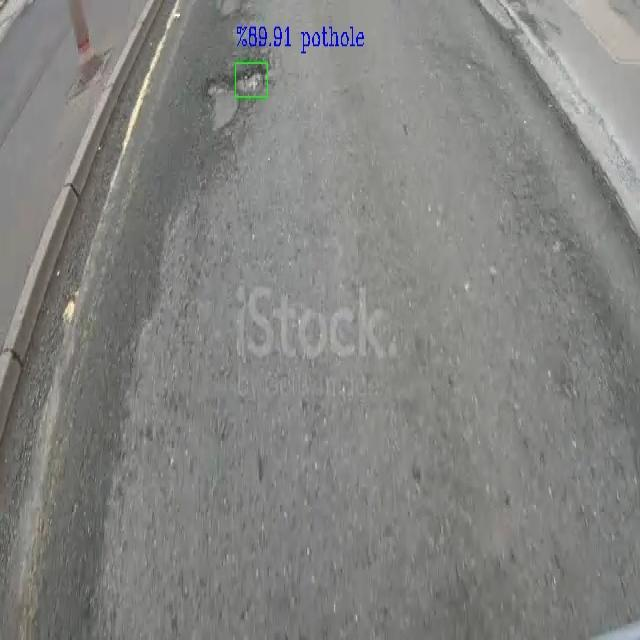pothole: (201, 70, 238, 135), (238, 68, 265, 92)
